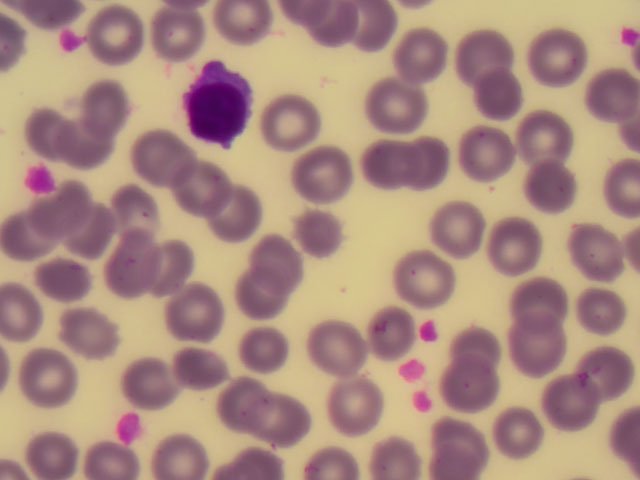Platelets: (112, 414, 144, 450), (25, 163, 56, 195), (614, 20, 640, 50), (407, 387, 431, 414), (397, 358, 424, 381), (63, 31, 84, 56), (423, 321, 439, 344)
RBC: (74, 76, 134, 136), (63, 116, 123, 176), (16, 97, 76, 157), (85, 7, 145, 67), (142, 3, 202, 63), (132, 123, 192, 183), (173, 158, 233, 218), (205, 183, 265, 243), (99, 233, 159, 293), (148, 233, 208, 293), (113, 177, 173, 237), (72, 205, 132, 265), (33, 187, 93, 247), (1, 198, 61, 258), (29, 250, 89, 310), (60, 305, 120, 365), (21, 352, 81, 412), (115, 354, 175, 414), (169, 343, 229, 403), (169, 284, 229, 344), (238, 314, 298, 374), (236, 264, 296, 324), (253, 227, 313, 287), (292, 208, 352, 268), (291, 147, 351, 207), (260, 94, 320, 154), (357, 128, 417, 188), (403, 125, 463, 185), (368, 81, 428, 141), (395, 19, 455, 79), (332, 1, 392, 61), (462, 24, 522, 84), (468, 62, 528, 122), (536, 20, 596, 80), (516, 108, 576, 168), (457, 127, 517, 187), (522, 158, 582, 218), (489, 216, 549, 276), (429, 194, 489, 254), (396, 251, 456, 311), (354, 298, 414, 358), (306, 313, 366, 373), (326, 370, 386, 430), (250, 391, 310, 451), (216, 375, 276, 435), (151, 420, 211, 480), (369, 420, 429, 480), (428, 420, 488, 480), (491, 402, 551, 462), (442, 363, 502, 423), (454, 318, 514, 378), (516, 323, 576, 383), (512, 276, 572, 336), (565, 277, 625, 337), (569, 220, 629, 280), (580, 350, 640, 410), (542, 375, 602, 435), (580, 67, 640, 127), (213, 1, 273, 60)
WBC: (180, 65, 252, 146)
